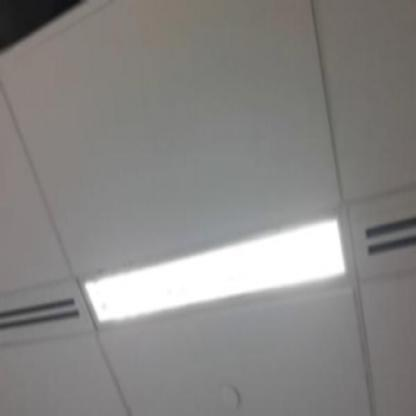light_on: (69, 205, 356, 334)
